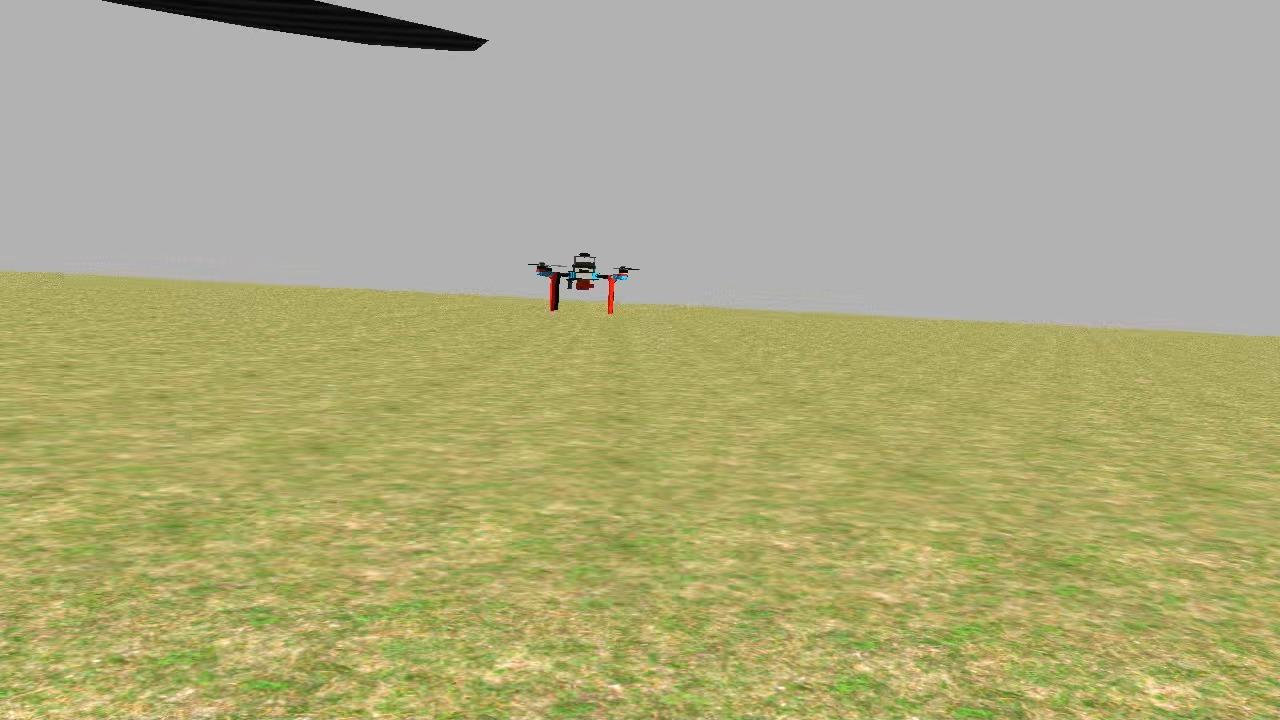UAV: (532, 248, 642, 320)
